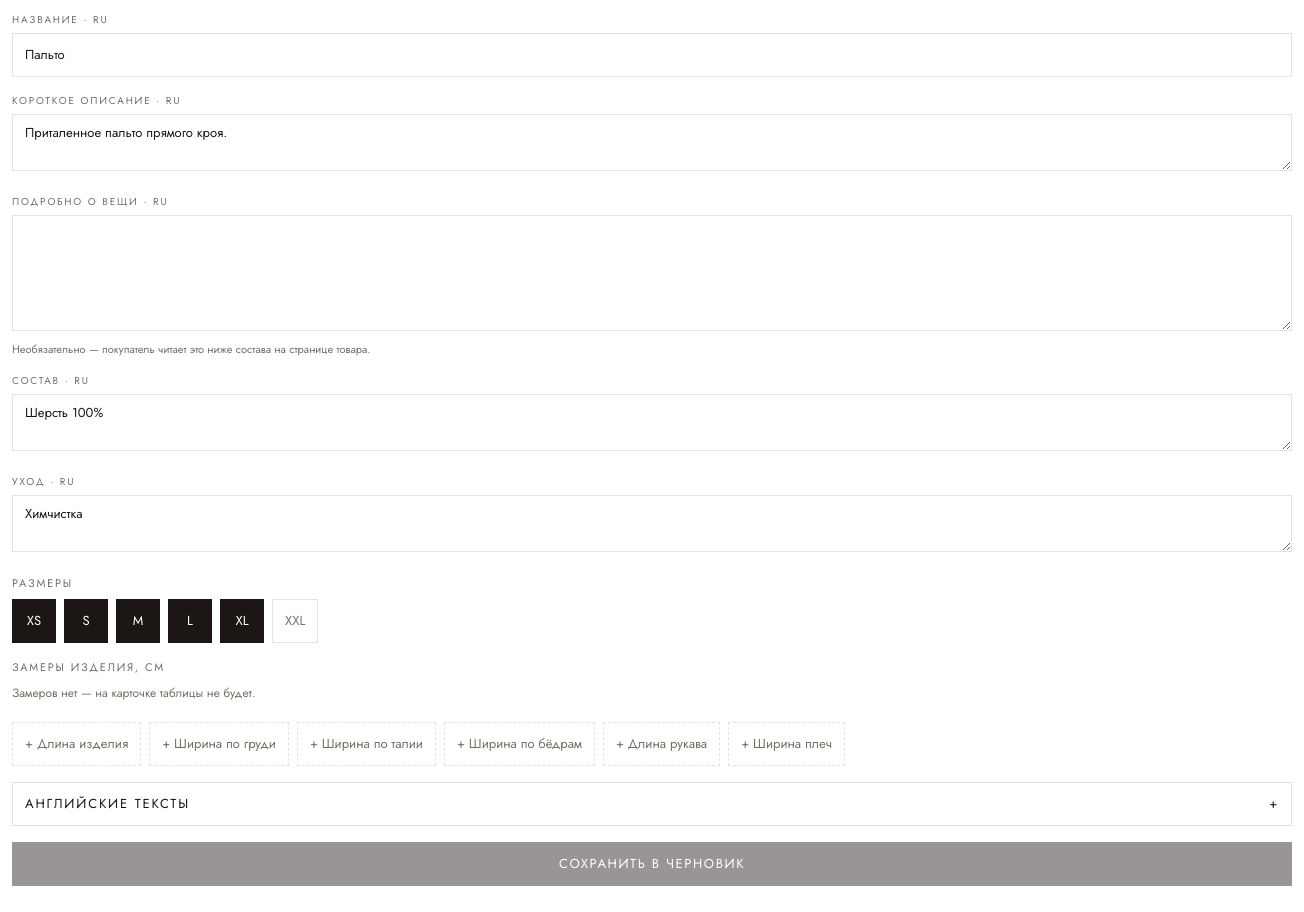
Test case: ModelForm — размеры › включил размер и выключил обратно — изменений нет, сохранять нечего
The image size is (1304, 912).
Check: the field labelled "Название · ru" is shown, box [12,33,1292,77]
Click the button "XXL" at (295,621), box [272,599,318,643]
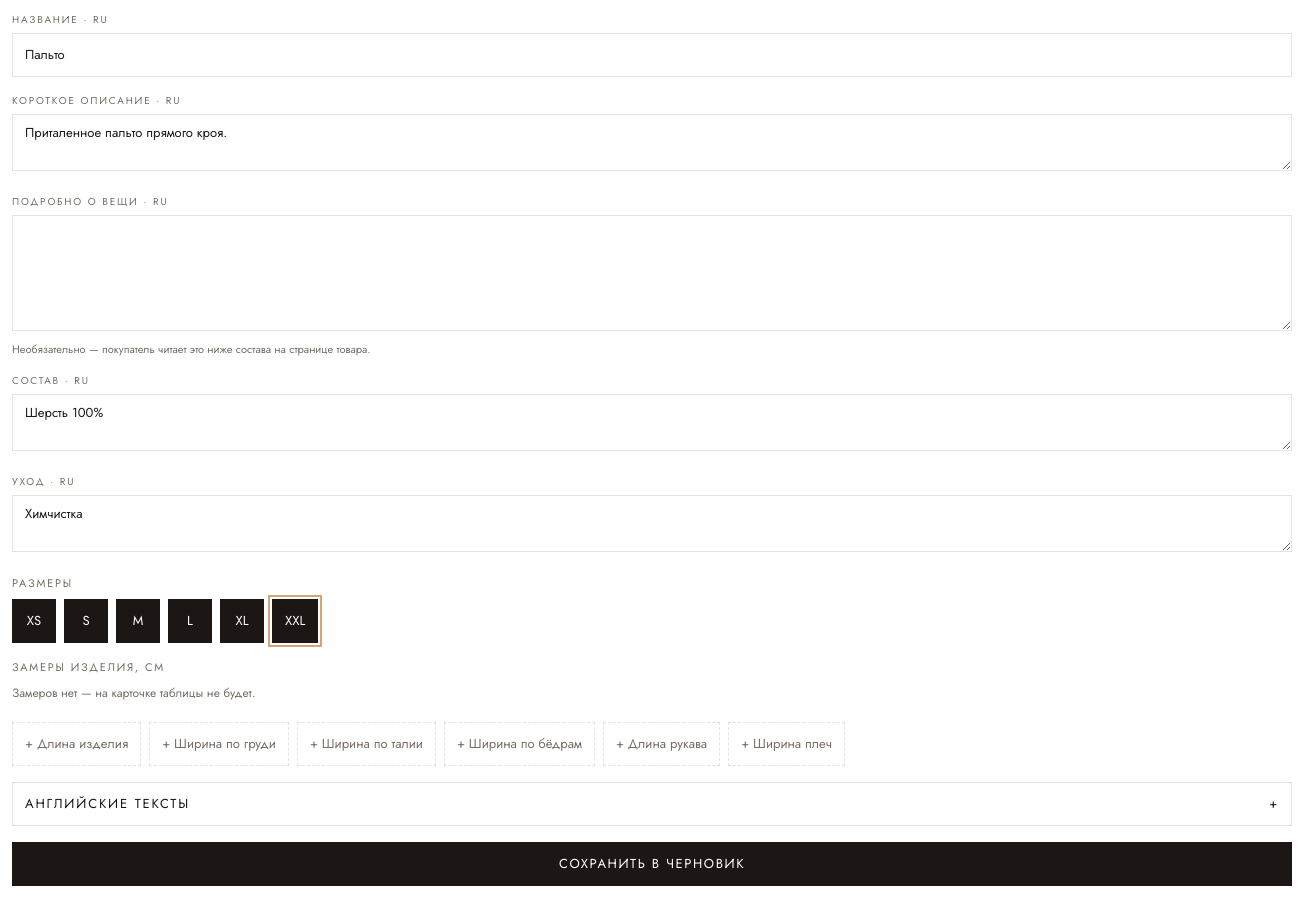
Click the button "XXL" at (295,621), box [272,599,318,643]
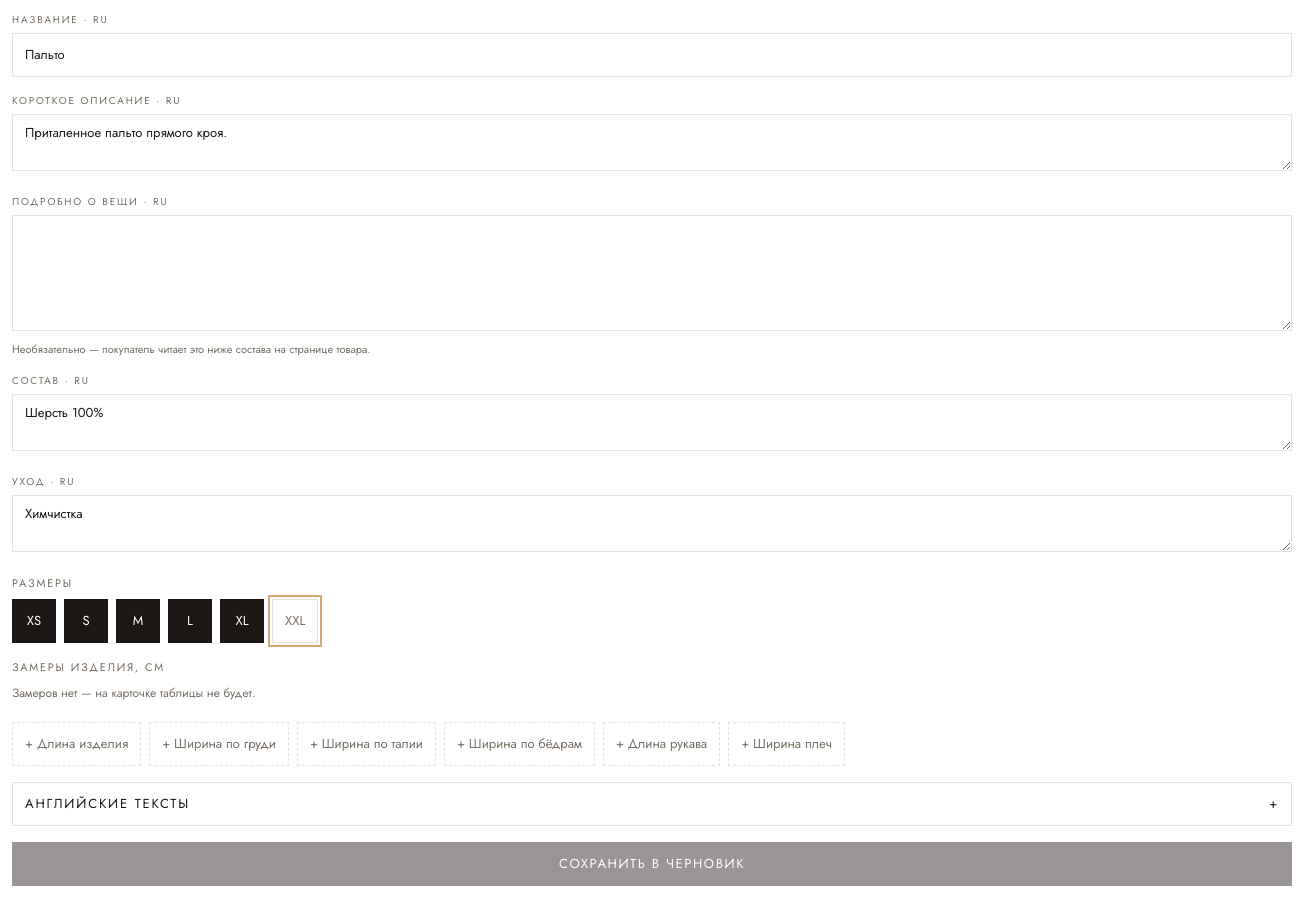
Check: the button "Сохранить в черновик" is disabled, box [12,842,1292,886]
